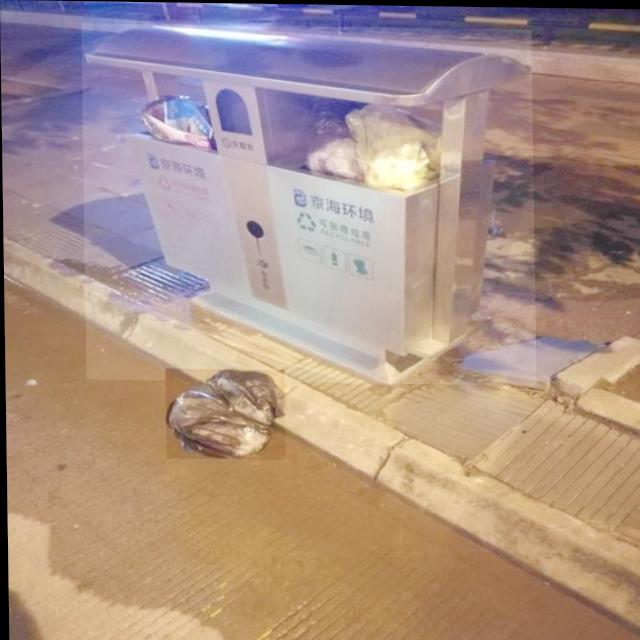garbage: (164, 368, 284, 459)
overflow: (81, 23, 536, 384)
